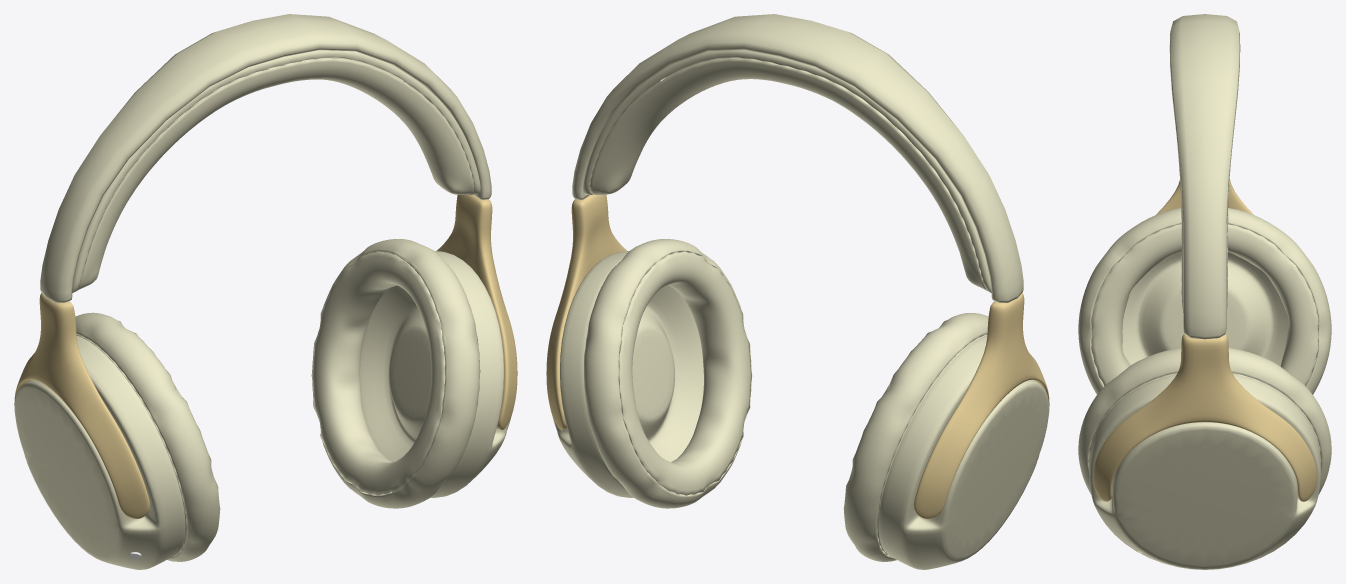
Rendered from Lumen.glb.
3 renders of one model, left to right at view 1: azimuth 30°, elevation 25°; view 2: azimuth 150°, elevation 25°; view 3: azimuth 270°, elevation 25°, orthographic. The views are drawn at different scales.
Parts seen in each view (by area): view 1: Earcup, Cube, EarpieceRight, Cube.001, EarpieceLeft, Joint; view 2: Earcup, Cube, EarpieceRight, Cube.001, EarpieceLeft, Joint; view 3: EarpieceLeft, Earcup, Cube, Joint, EarpieceRight, Cube.001.
Part boxes in pixels (left/top/right/bottom): Earcup: left=75, top=239, right=480, bottom=561; Cube: left=40, top=14, right=491, bottom=302; EarpieceRight: left=15, top=336, right=185, bottom=569; Cube.001: left=72, top=50, right=480, bottom=292; EarpieceLeft: left=360, top=251, right=511, bottom=497; Joint: left=14, top=195, right=517, bottom=518; Earcup: left=583, top=239, right=988, bottom=561; Cube: left=572, top=14, right=1023, bottom=302; EarpieceRight: left=878, top=336, right=1048, bottom=569; Cube.001: left=583, top=50, right=991, bottom=292; EarpieceLeft: left=552, top=251, right=703, bottom=497; Joint: left=546, top=194, right=1049, bottom=518; EarpieceLeft: left=1089, top=374, right=1320, bottom=569; Earcup: left=1078, top=207, right=1331, bottom=494; Cube: left=1169, top=14, right=1240, bottom=339; Joint: left=1093, top=179, right=1316, bottom=501; EarpieceRight: left=1091, top=223, right=1318, bottom=365; Cube.001: left=1177, top=149, right=1230, bottom=312.
Size of the model in its own units: 4.05 by 4.38 by 2.16.
